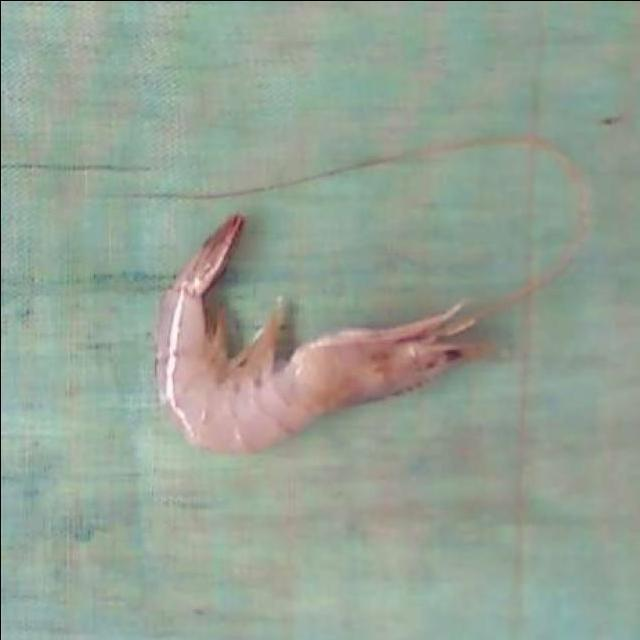shrimp: (159, 214, 483, 453)
